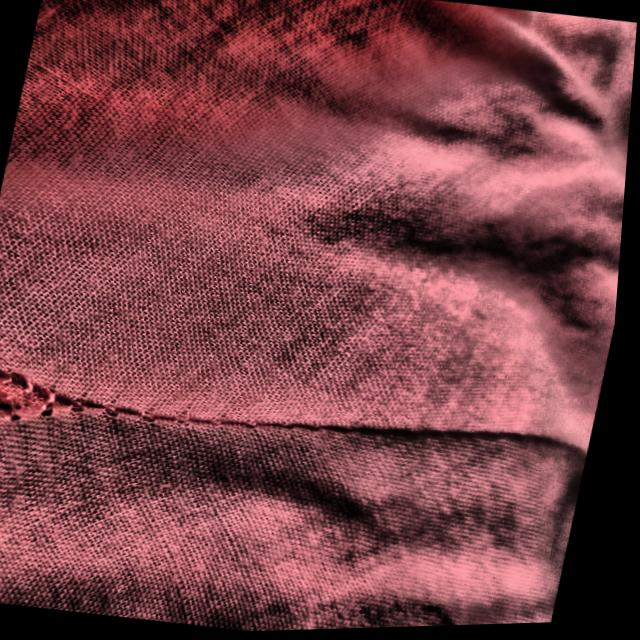Stitch: (0, 332, 176, 487)
